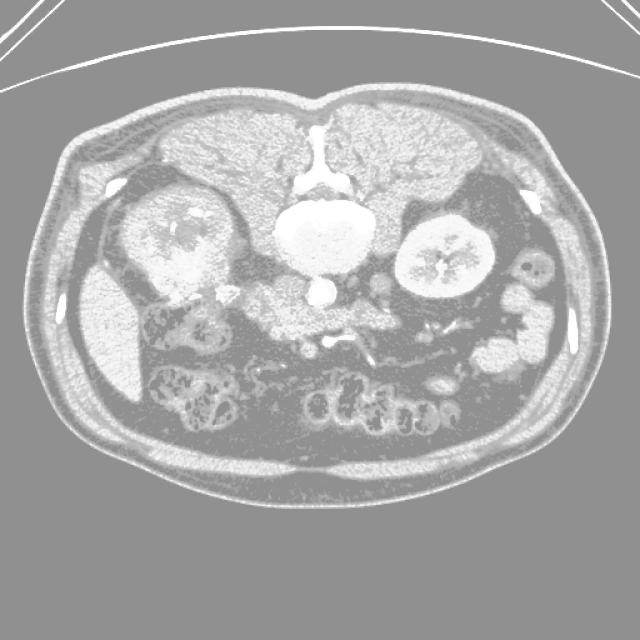TUMOR: (73, 171, 507, 333)
